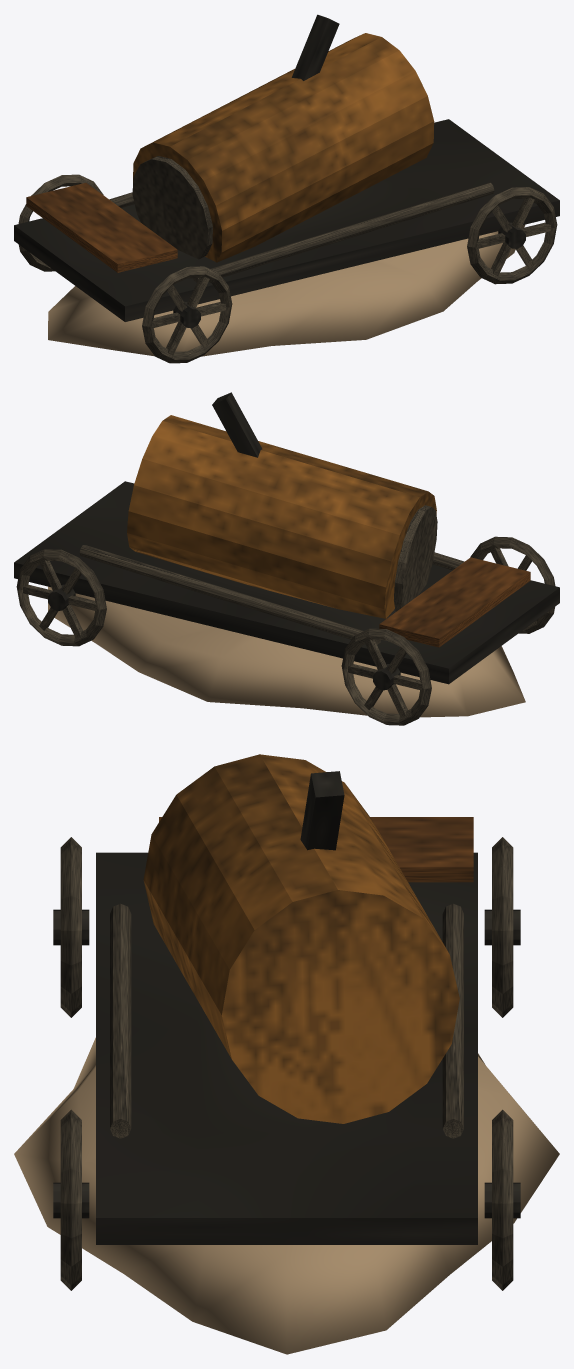
File: flivver-row-east-b.glb
3 views of the same model, one above another, from view 1: azimuth 30°, elevation 25°; view 2: azimuth 150°, elevation 25°; view 3: azimuth 270°, elevation 25° (orthographic). The views are drawn at different scales.
Parts seen in each view (by area): view 1: flivver-row-east-b; view 2: flivver-row-east-b; view 3: flivver-row-east-b.
Part boxes in pixels (x1=…): flivver-row-east-b: x1=14, y1=14, x2=559, y2=363; flivver-row-east-b: x1=14, y1=392, x2=559, y2=725; flivver-row-east-b: x1=14, y1=754, x2=559, y2=1354.
Size of the model in its own units: 5.82 by 2.85 by 3.35.
Materials: 2 (1 with a texture image).
